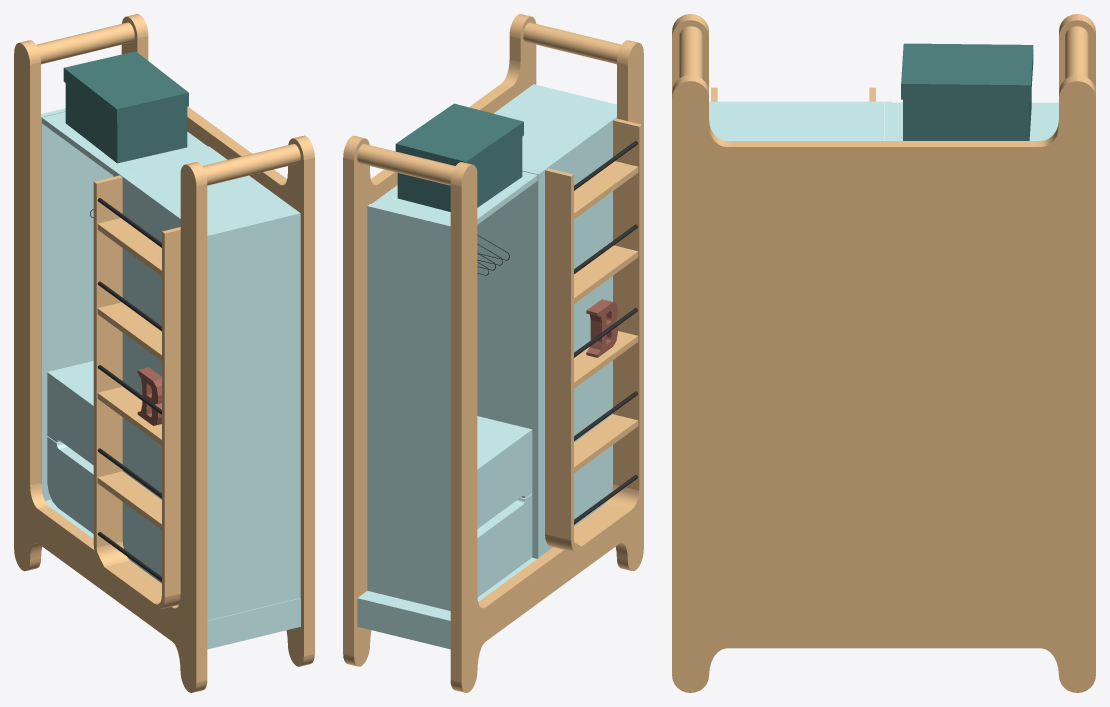
Rendered from Furn4_chest_color2_joined.fbx.
The picture shows the model from 3 angles, left to right: view 1: azimuth 30°, elevation 25°; view 2: azimuth 150°, elevation 25°; view 3: azimuth 270°, elevation 25°; orthographic projection. The views are drawn at different scales.
Parts seen in each view (by area): view 1: Куб.256; view 2: Куб.256; view 3: Куб.256.
Part boxes in pixels (left/top/right/bottom): Куб.256: left=14, top=14, right=314, bottom=692; Куб.256: left=343, top=14, right=643, bottom=692; Куб.256: left=672, top=14, right=1095, bottom=692.
Size of the model in its own units: 133 by 502 by 315.
